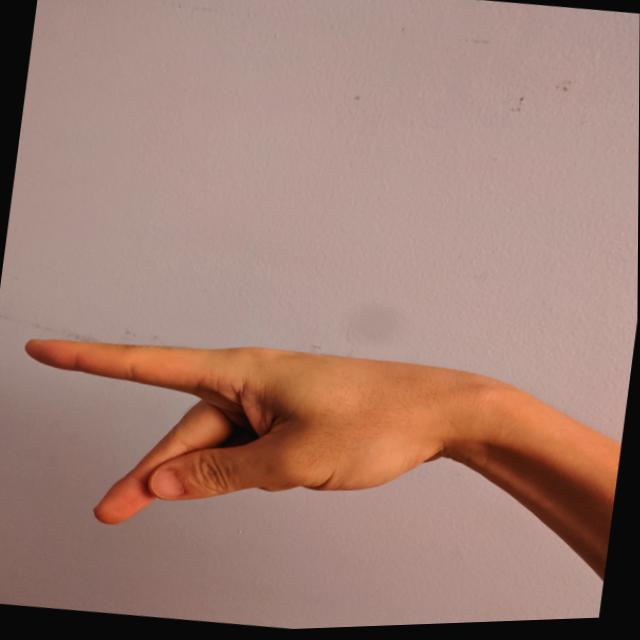P: (0, 306, 474, 577)
